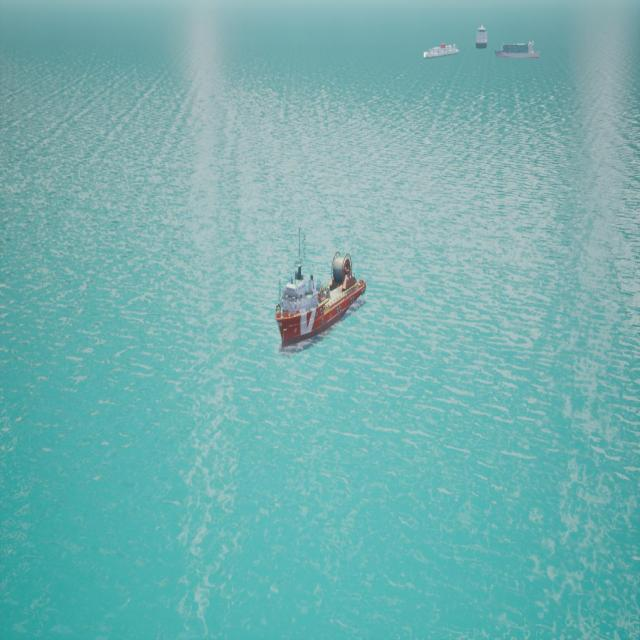tug boat: (274, 252, 366, 354)
